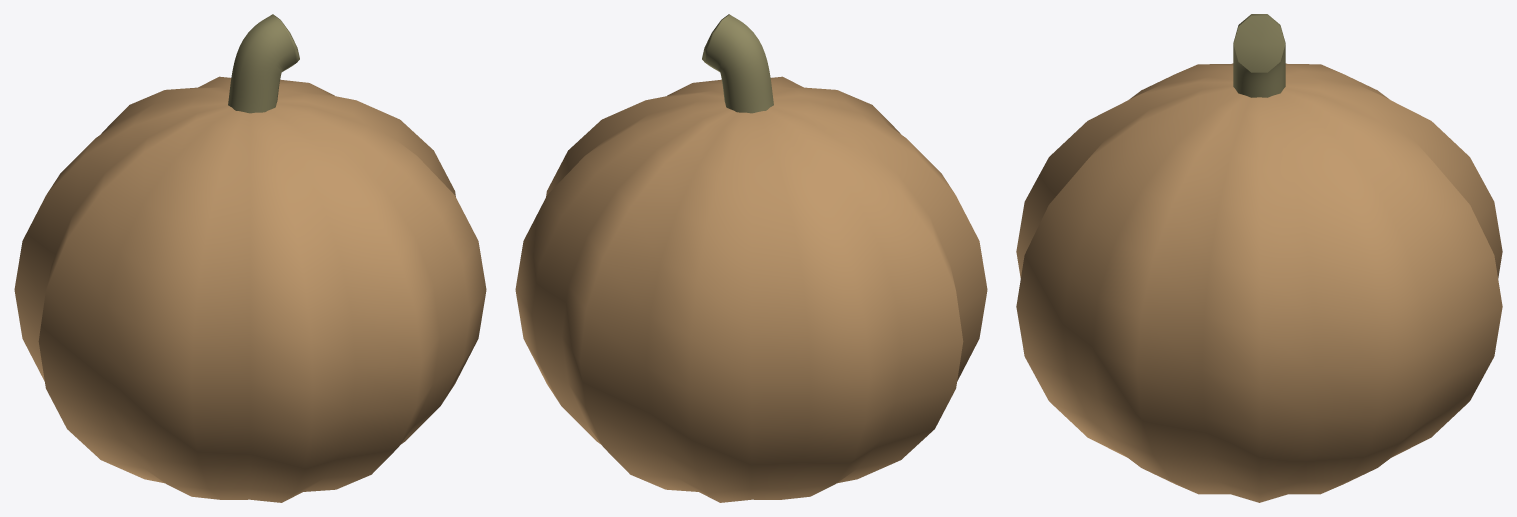
Rendered from pumpkin.glb.
The picture shows the model from 3 angles, left to right: view 1: azimuth 30°, elevation 25°; view 2: azimuth 150°, elevation 25°; view 3: azimuth 270°, elevation 25°; orthographic projection. The views are drawn at different scales.
Parts seen in each view (by area): view 1: pumpkin-ribbed-body, pumpkin-stem; view 2: pumpkin-ribbed-body, pumpkin-stem; view 3: pumpkin-ribbed-body, pumpkin-stem.
Boxes of the visible parts, x1,y1,x2,y2 form: pumpkin-ribbed-body: (14, 76, 486, 502); pumpkin-stem: (228, 14, 299, 113); pumpkin-ribbed-body: (515, 76, 987, 502); pumpkin-stem: (702, 14, 773, 113); pumpkin-ribbed-body: (1016, 63, 1502, 502); pumpkin-stem: (1233, 14, 1285, 97).
Size of the model in its own units: 0.43 by 0.4419 by 0.4115.
